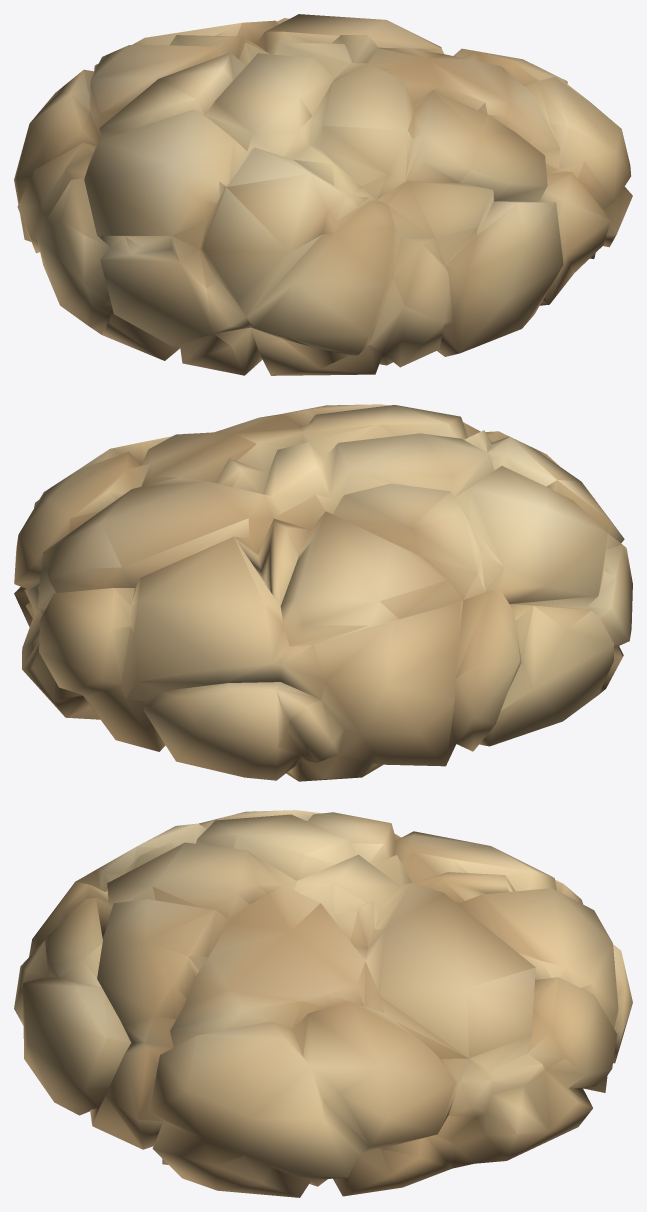
Rendered from shore_sand_blister_lod1.glb.
3 views of the same model, one above another, from view 1: azimuth 30°, elevation 25°; view 2: azimuth 150°, elevation 25°; view 3: azimuth 270°, elevation 25° (orthographic). The views are drawn at different scales.
Parts seen in each view (by area): view 1: shore_sand_blister.001; view 2: shore_sand_blister.001; view 3: shore_sand_blister.001.
Boxes of the visible parts, x1,y1,x2,y2 form: shore_sand_blister.001: [14, 14, 632, 375]; shore_sand_blister.001: [14, 404, 632, 781]; shore_sand_blister.001: [14, 810, 632, 1197].
Size of the model in its own units: 2.49 by 0.8919 by 2.41.
